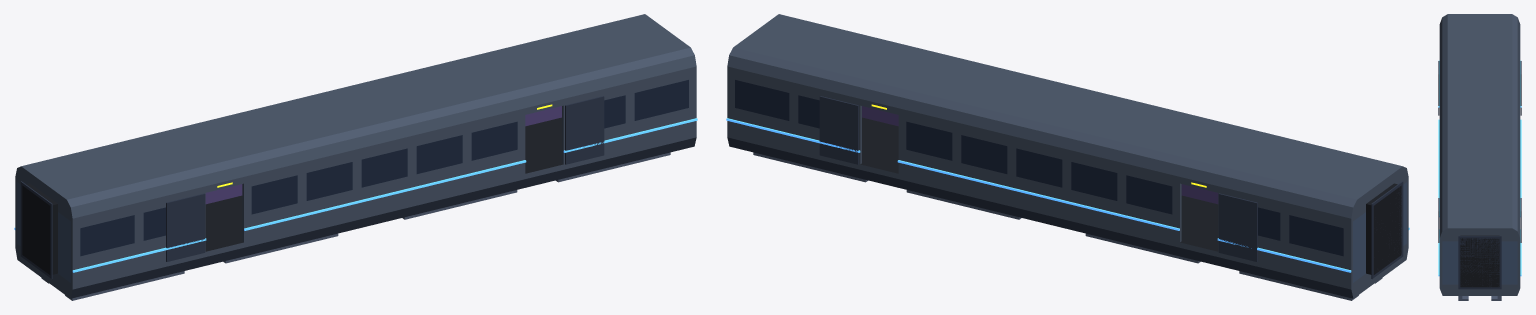
File: rail_maglev_car_open.glb
The picture shows the model from 3 angles, left to right: view 1: azimuth 30°, elevation 25°; view 2: azimuth 150°, elevation 25°; view 3: azimuth 270°, elevation 25°; orthographic projection. The views are drawn at different scales.
Parts seen in each view (by area): view 1: body, windows, underbody, gangway_bellows, led_stripe, skids, interior, seats; view 2: body, windows, underbody, gangway_bellows, led_stripe, skids, interior, seats; view 3: body, gangway_bellows, underbody, interior, led_stripe, skids.
Boxes of the visible parts, x1,y1,x2,y2 form: body: (15, 14, 696, 298); windows: (80, 80, 688, 256); underbody: (20, 96, 604, 278); gangway_bellows: (22, 183, 57, 274); led_stripe: (14, 118, 697, 272); skids: (41, 152, 670, 300); interior: (17, 182, 70, 282); seats: (205, 106, 561, 204); body: (727, 14, 1408, 298); windows: (735, 80, 1343, 256); underbody: (819, 96, 1403, 278); gangway_bellows: (1366, 183, 1401, 274); led_stripe: (726, 118, 1409, 272); skids: (753, 152, 1382, 300); interior: (1353, 182, 1406, 282); seats: (862, 106, 1218, 204); body: (1439, 14, 1520, 295); gangway_bellows: (1460, 235, 1499, 287); underbody: (1438, 61, 1521, 289); interior: (1442, 241, 1517, 284); led_stripe: (1438, 60, 1521, 276); skids: (1458, 296, 1501, 300).
Bounding box in the file's own units: 25 × 4.1 × 4.
